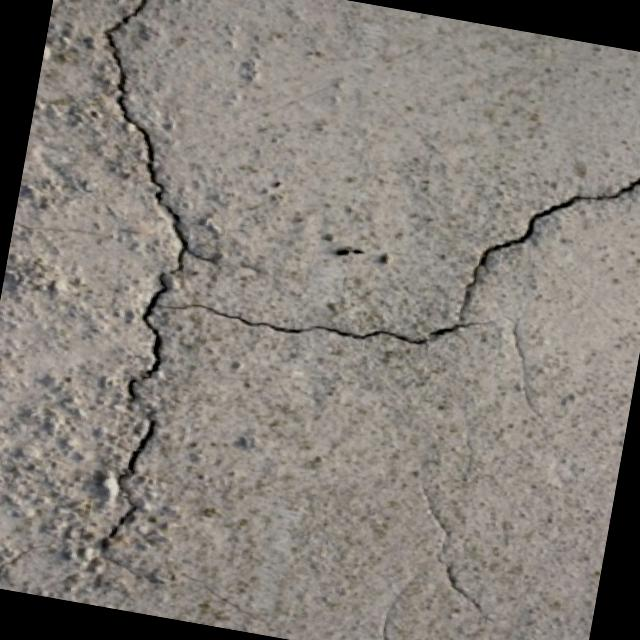crack: (7, 0, 262, 571), (434, 114, 640, 364), (168, 290, 440, 362), (394, 482, 512, 616)
